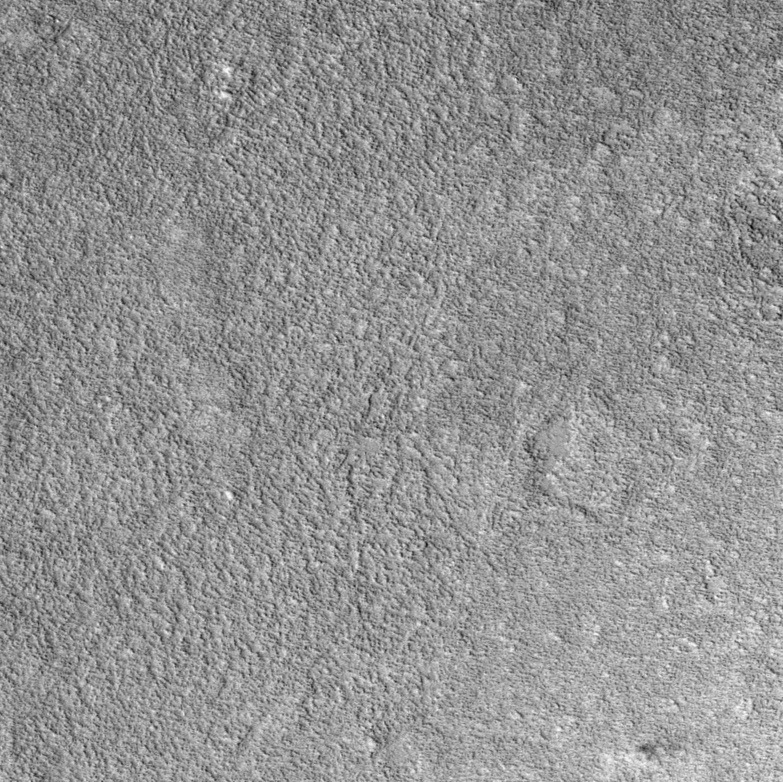dust_devil: (621, 737, 684, 766)
